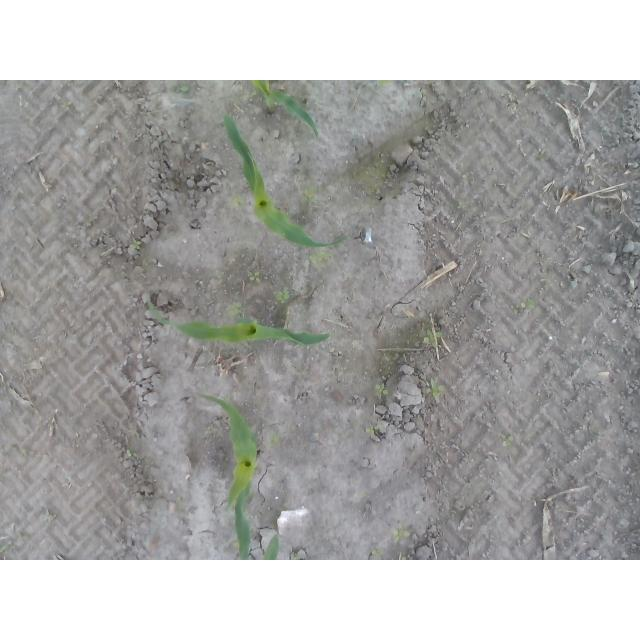Maize: (223, 113, 354, 247), (146, 293, 332, 348), (198, 394, 259, 559), (250, 81, 319, 140), (262, 533, 283, 560)
Weeds: (308, 249, 332, 272), (424, 377, 446, 399), (512, 299, 537, 318), (424, 329, 444, 351), (393, 523, 410, 545), (301, 184, 319, 204), (228, 196, 248, 211), (226, 302, 242, 318), (276, 288, 290, 304), (266, 434, 281, 448), (38, 512, 54, 525), (247, 270, 261, 283), (365, 425, 382, 435), (374, 383, 386, 397), (130, 238, 143, 250), (376, 80, 393, 88), (175, 85, 190, 94), (372, 548, 385, 558), (461, 172, 475, 181), (502, 435, 514, 445), (129, 429, 140, 439), (1, 543, 10, 555), (457, 202, 468, 210), (126, 449, 134, 460)
